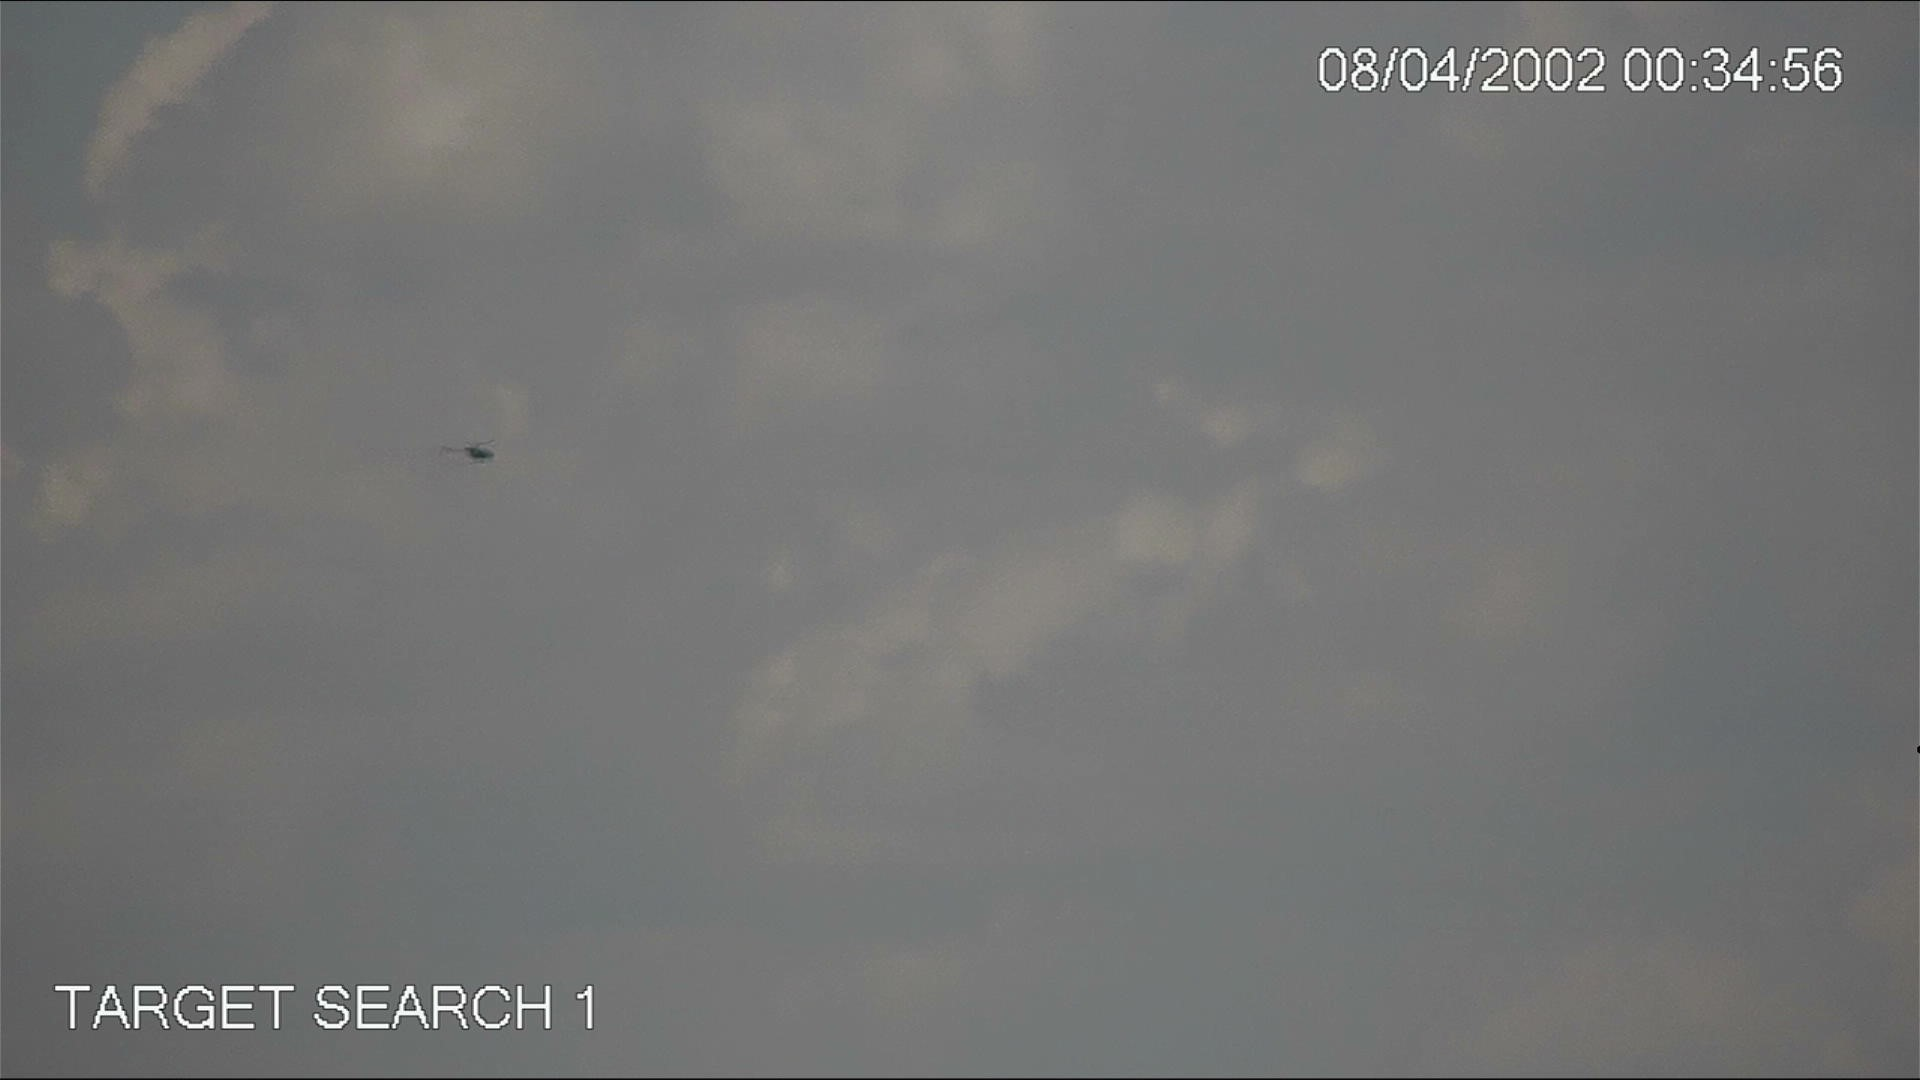SU_30: (438, 436, 504, 471)
